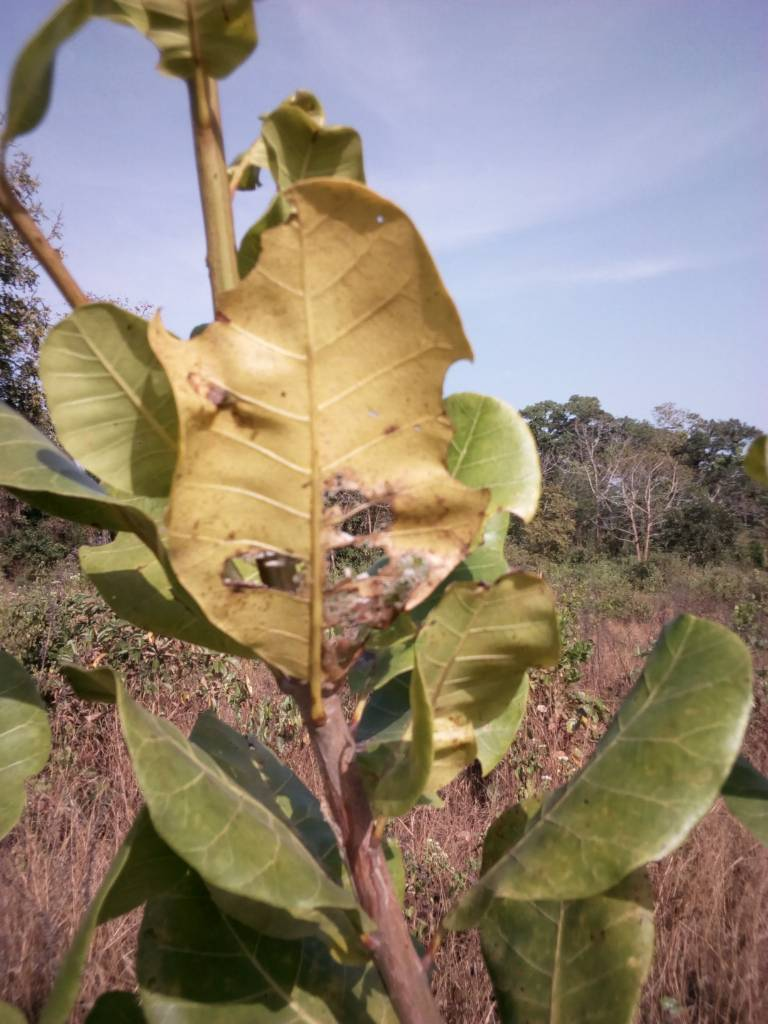Bactériose: (161, 183, 472, 680)
